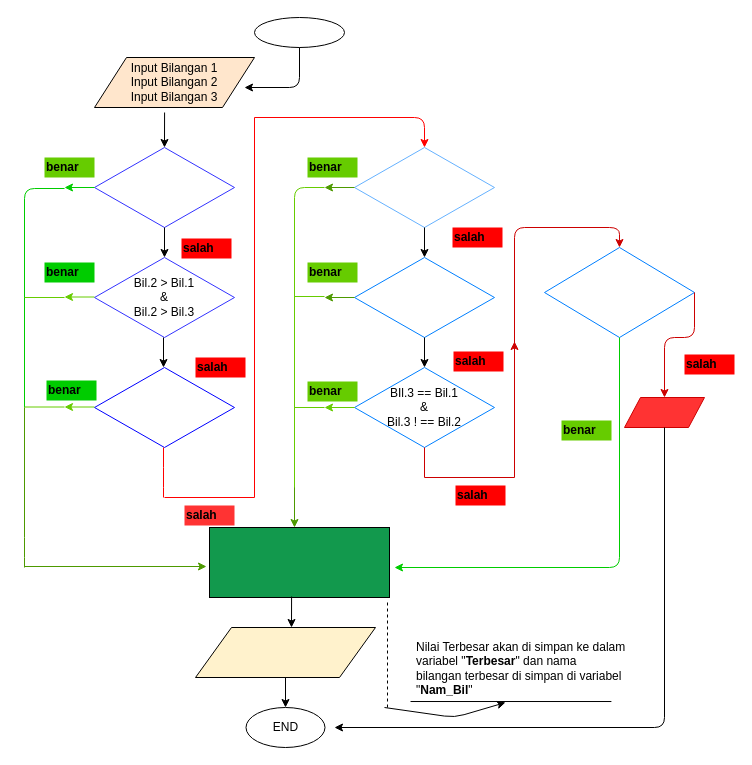
Some shapes in this 752 by 765 pixel diagram are drawn without their labels. Here are the shapes that lost their labels. From the top down, the box of each, then its label:
(254, 16, 344, 48): START
(94, 146, 234, 228): Bil.1 > Bil.2 & Bil.1 > Bil.3
(354, 146, 494, 228): BIl.1 == Bil.2 & Bil.1 ! == Bil.3
(354, 256, 494, 338): BIl.2 == Bil.3 & Bil.2 ! == Bil.1
(544, 246, 694, 338): Bil.1,Bil.2,Bil.3 == Bil.1,Bil.2,Bil.3
(94, 366, 234, 448): Bil.3 > Bil.1 & Bil.3 > Bil.2
(624, 396, 704, 428): EROR
(208, 526, 390, 598): Nilai terbesar = Terbesar Nama bilangan = Nam_Bil
(194, 626, 376, 678): Print Terbesar & Nam_Bil
